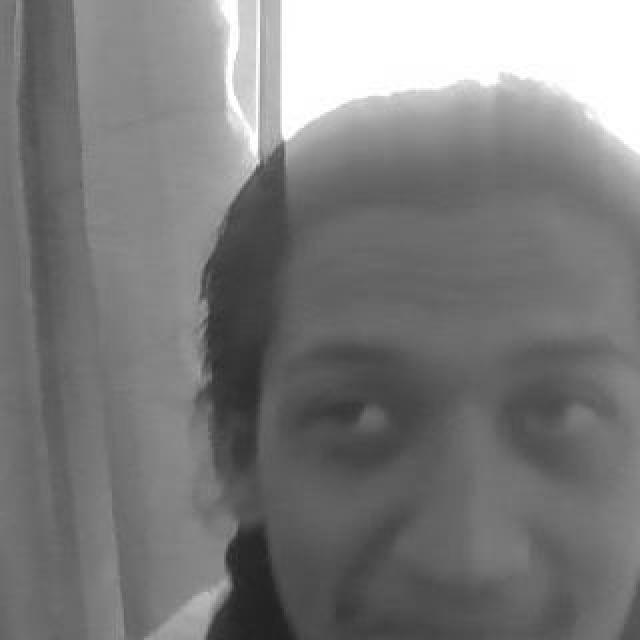Focused: (250, 186, 640, 636)
